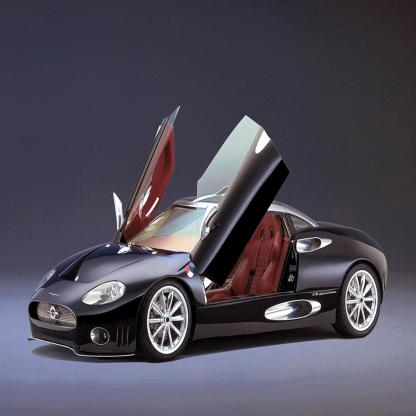car: (24, 102, 389, 367)
